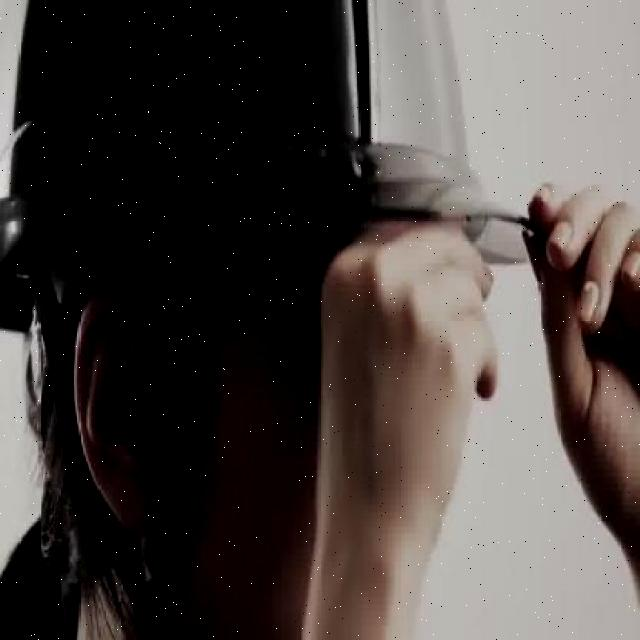Helmet: (0, 0, 540, 337)
